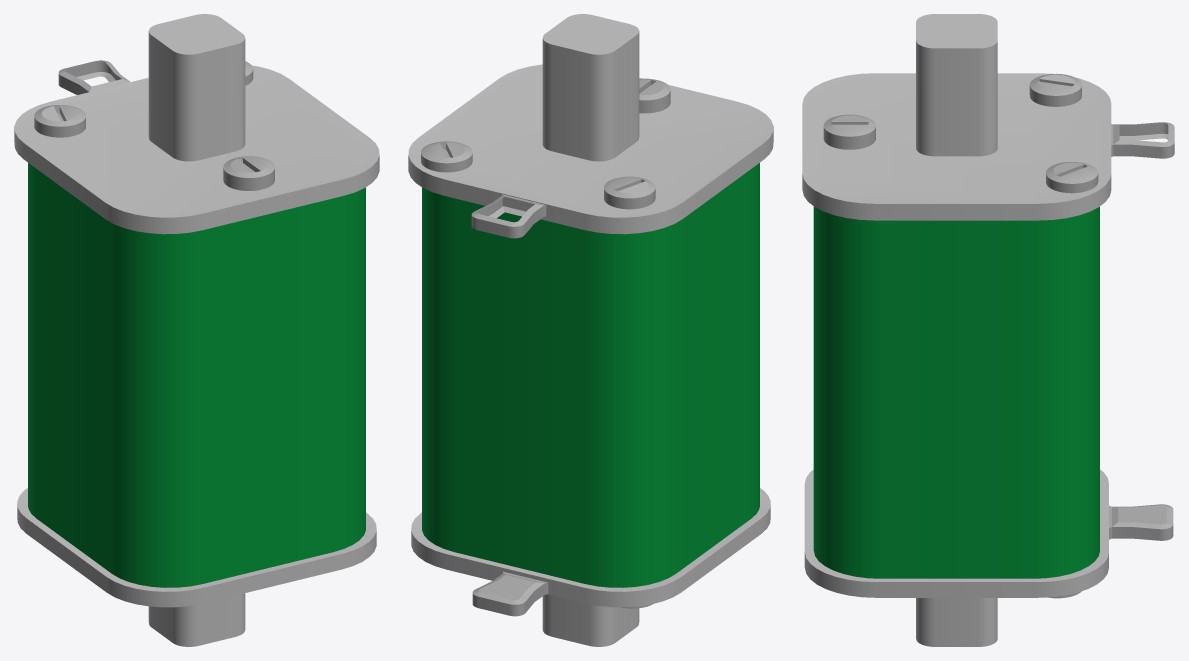
File: GreenFuse.fbx
3 views of the same model, side by side, from view 1: azimuth 30°, elevation 25°; view 2: azimuth 150°, elevation 25°; view 3: azimuth 270°, elevation 25° (orthographic).
Visible parts, largest first — view 1: Fuse; view 2: Fuse; view 3: Fuse.
Boxes of the visible parts, bbox=[...] form: Fuse: bbox=[14, 14, 379, 646]; Fuse: bbox=[408, 14, 773, 646]; Fuse: bbox=[802, 14, 1174, 646].
Bounding box in the file's own units: 97.54 × 208 × 117.
